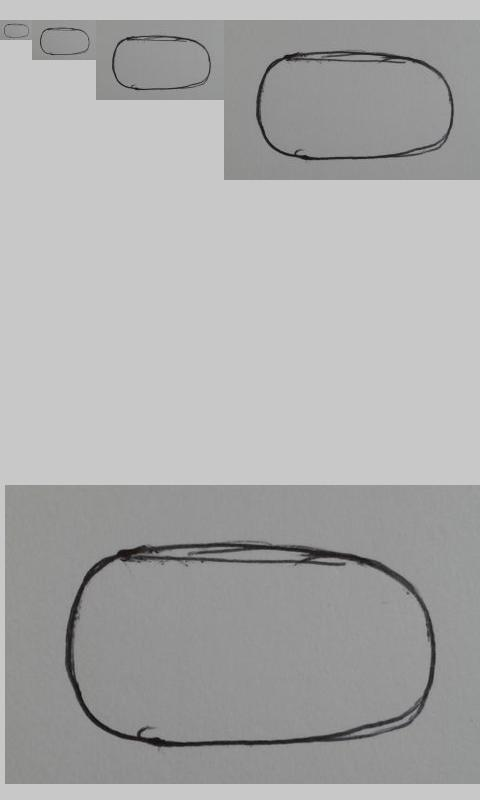chip: (61, 540, 441, 749), (255, 49, 455, 161), (111, 34, 212, 91), (39, 27, 91, 56), (3, 23, 30, 39)
